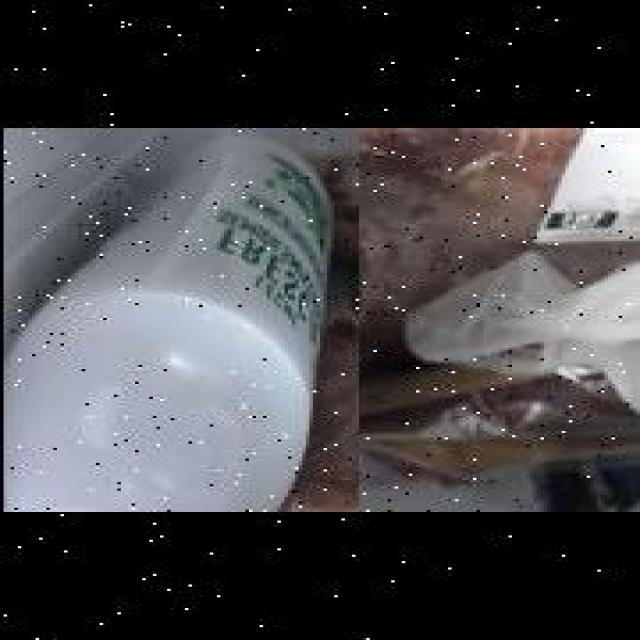milk: (0, 128, 356, 512)
